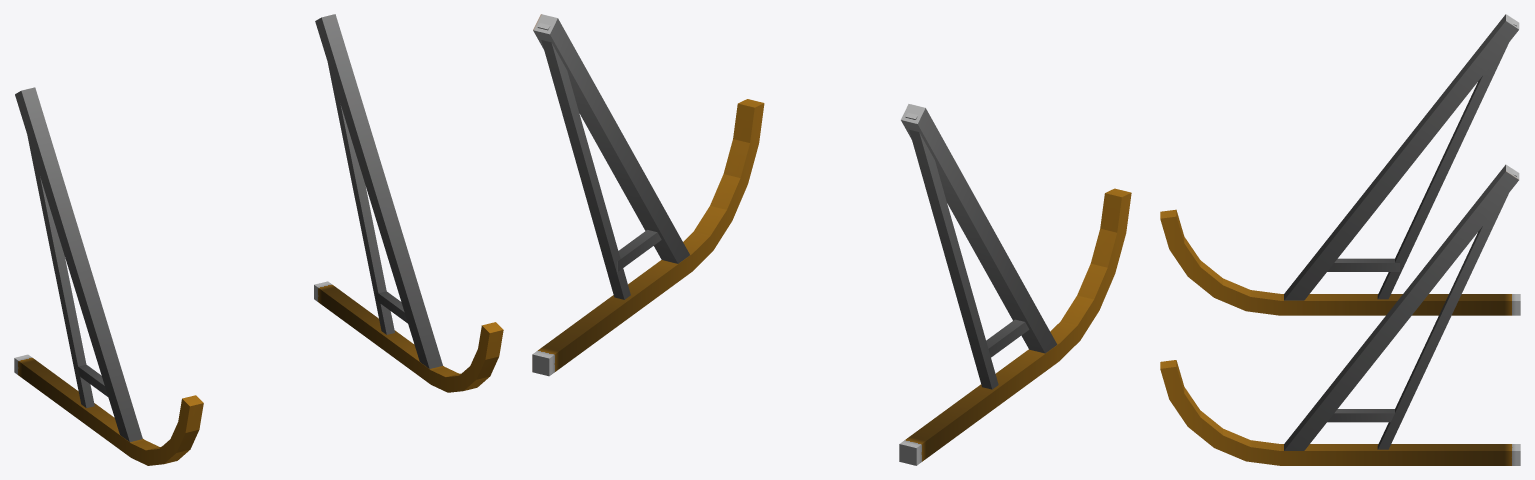
Rendered from Alas1.obj.
The picture shows the model from 3 angles, left to right: view 1: azimuth 30°, elevation 25°; view 2: azimuth 150°, elevation 25°; view 3: azimuth 270°, elevation 25°; orthographic projection. The views are drawn at different scales.
Parts seen in each view (by area): view 1: Alas1; view 2: Alas1; view 3: Alas1.
Part boxes in pixels (bbox=[...]): Alas1: bbox=[14, 14, 503, 465]; Alas1: bbox=[532, 14, 1131, 465]; Alas1: bbox=[1160, 14, 1520, 465].
Size of the model in its own units: 22.24 by 19.42 by 21.54.
Materials: 1 (1 with a texture image).
